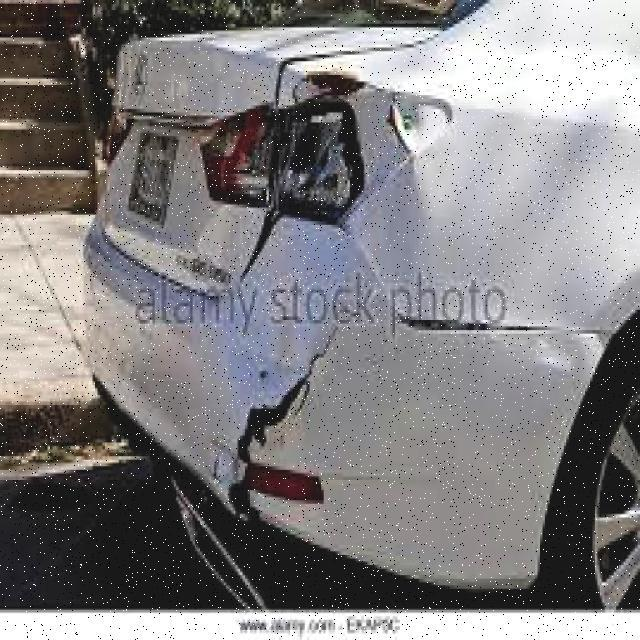car damage: (233, 51, 463, 288), (212, 327, 349, 530), (396, 302, 582, 383)
